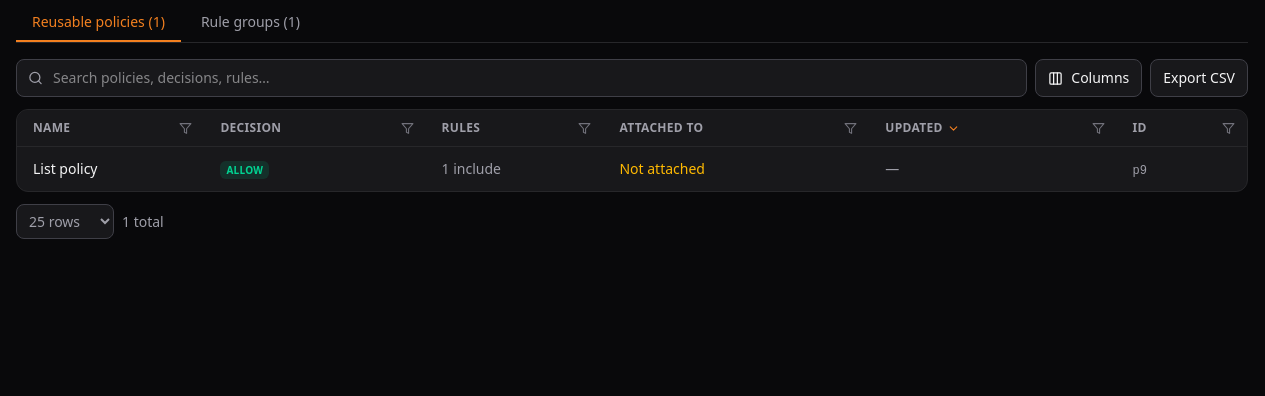
it: GroupsPage tabs › says so when a list's entries could not be read
This screenshot has width=1265, height=396.
Step 1. Click the text "List policy" → click(65, 168), box left=33, top=159, right=98, bottom=178
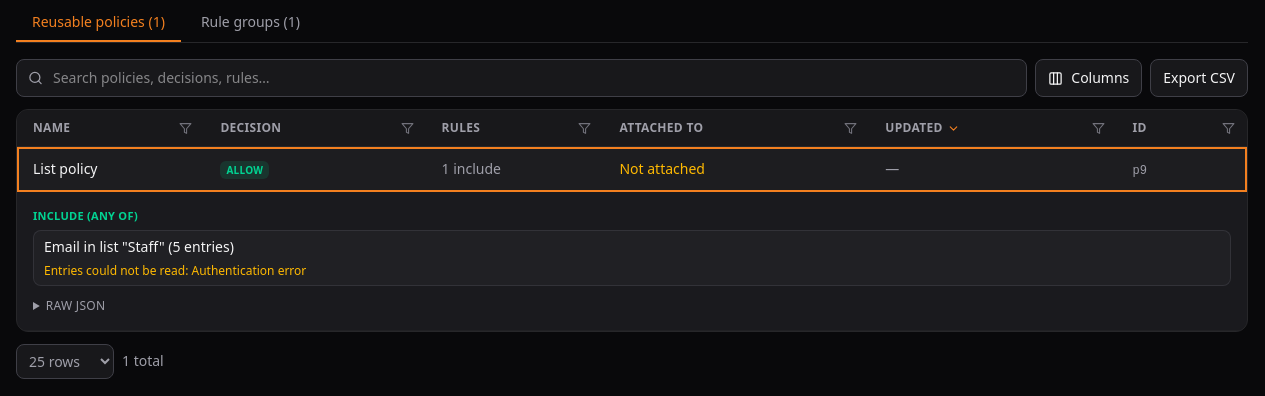
expect the text "Entries could not be read: Authentication error" is shown: met, box left=44, top=262, right=306, bottom=279
